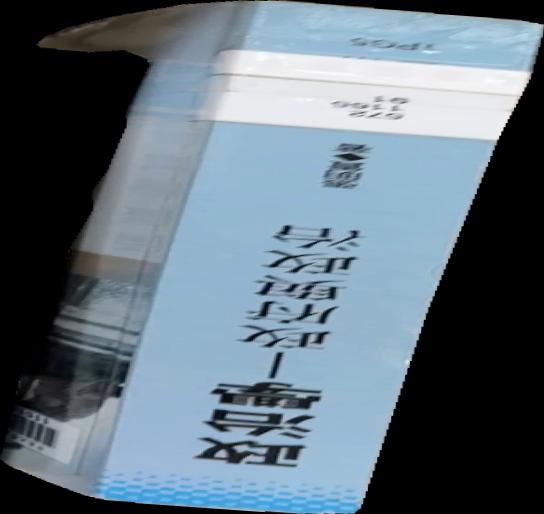reverse: (1, 1, 544, 514)
